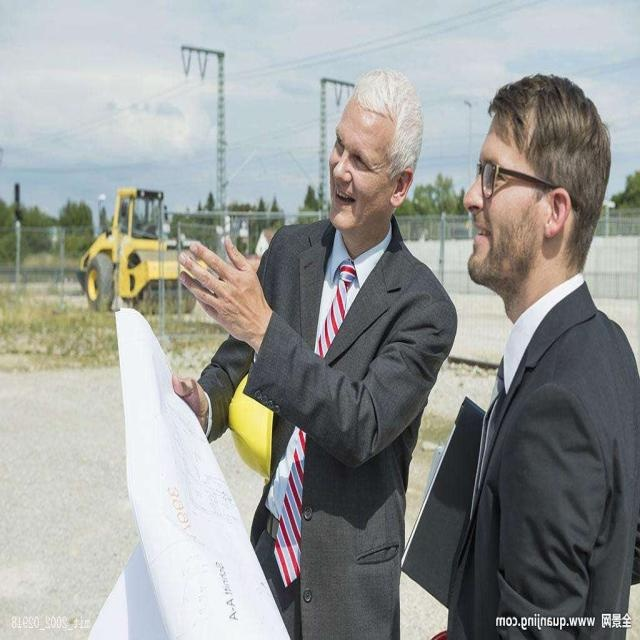Sin_Casco_Mascarrilla: (465, 82, 608, 286), (332, 69, 424, 227)
